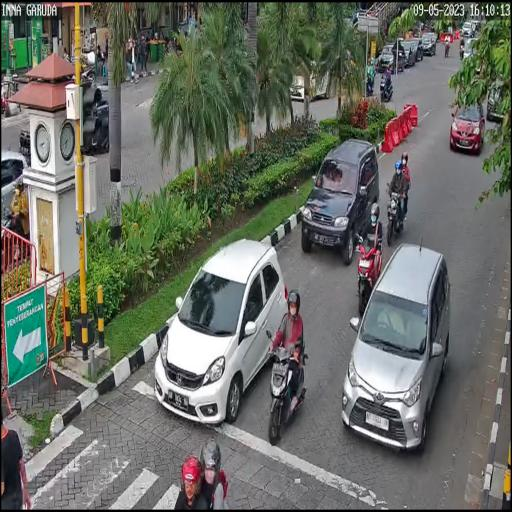mobil: (149, 240, 291, 426), (338, 241, 454, 458), (302, 137, 382, 263), (448, 86, 488, 158)
motor: (264, 317, 309, 448), (353, 228, 384, 316), (384, 170, 413, 247)
